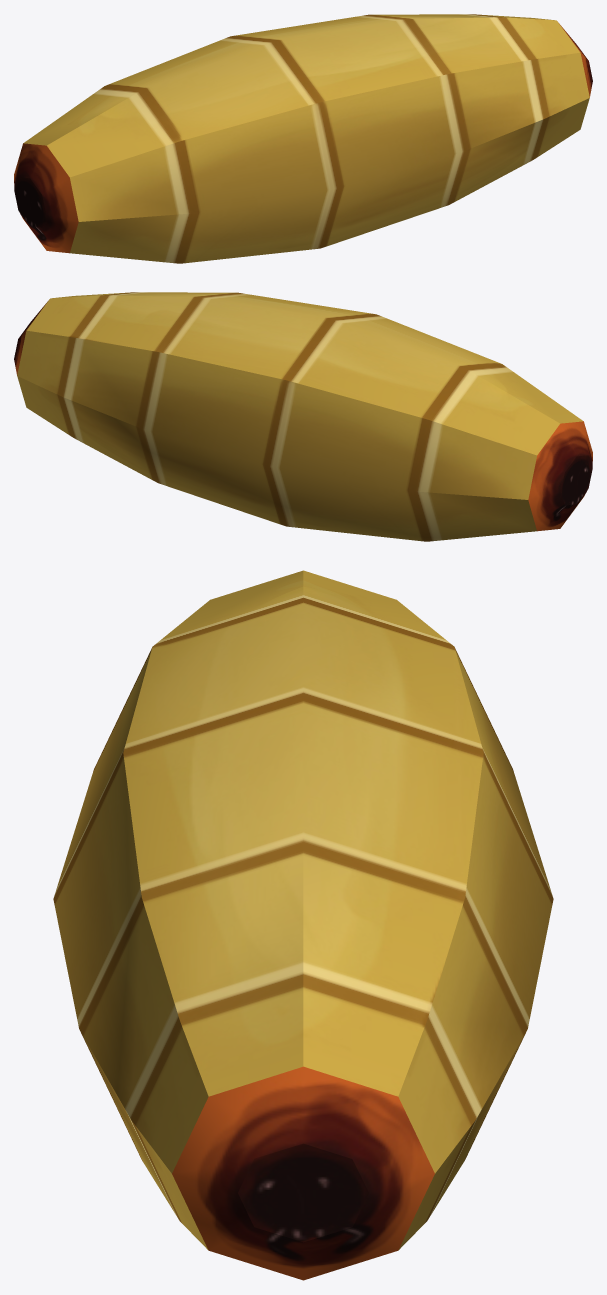
Rendered from maggot.fbx.
3 renders of one model, top to bottom at view 1: azimuth 30°, elevation 25°; view 2: azimuth 150°, elevation 25°; view 3: azimuth 270°, elevation 25°, orthographic. The views are drawn at different scales.
Visible parts, largest first — view 1: pCube1; view 2: pCube1; view 3: pCube1.
Part boxes in pixels (<box>): pCube1: <box>14,14,592,263</box>; pCube1: <box>14,292,592,541</box>; pCube1: <box>53,570,553,1280</box>.
Bounding box in the file's own units: 9.17 × 3.26 × 3.64.
Materials: 1 (1 with a texture image).
